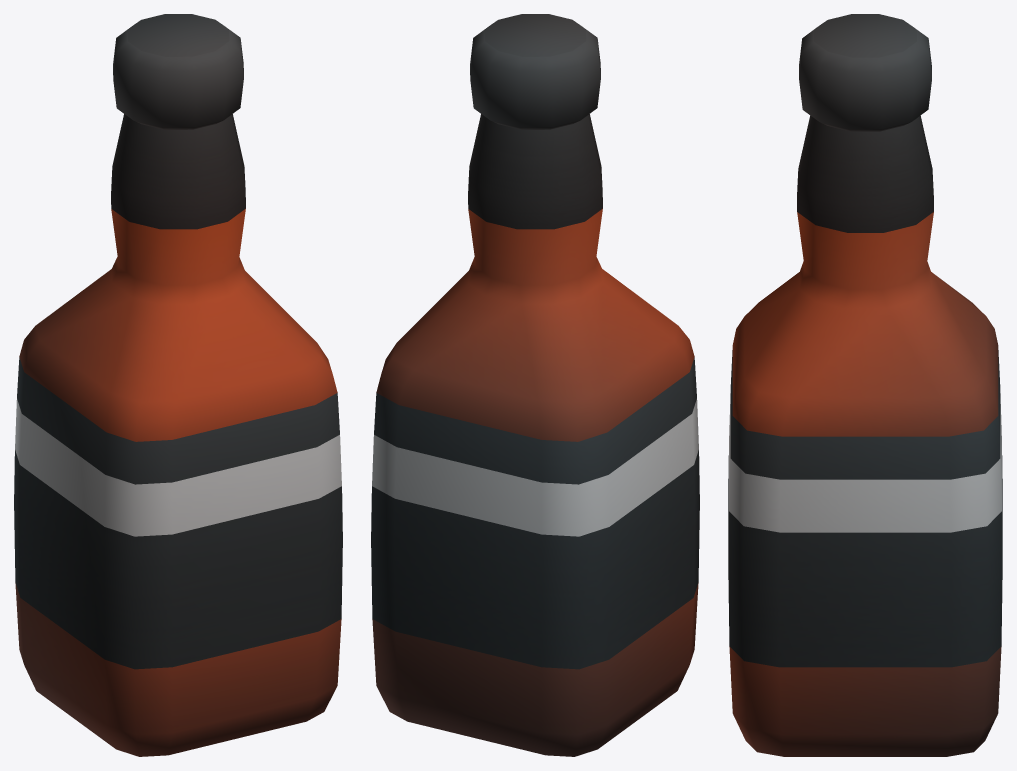
File: bottle_012.fbx
The picture shows the model from 3 angles, left to right: view 1: azimuth 30°, elevation 25°; view 2: azimuth 150°, elevation 25°; view 3: azimuth 270°, elevation 25°; orthographic projection.
Visible parts, largest first — view 1: bottle_012; view 2: bottle_012; view 3: bottle_012.
Boxes of the visible parts, x1=… form: bottle_012: x1=14, y1=14, x2=342, y2=756; bottle_012: x1=371, y1=14, x2=699, y2=756; bottle_012: x1=728, y1=14, x2=1002, y2=756.
Size of the model in its own units: 10.29 by 10.29 by 28.24.
